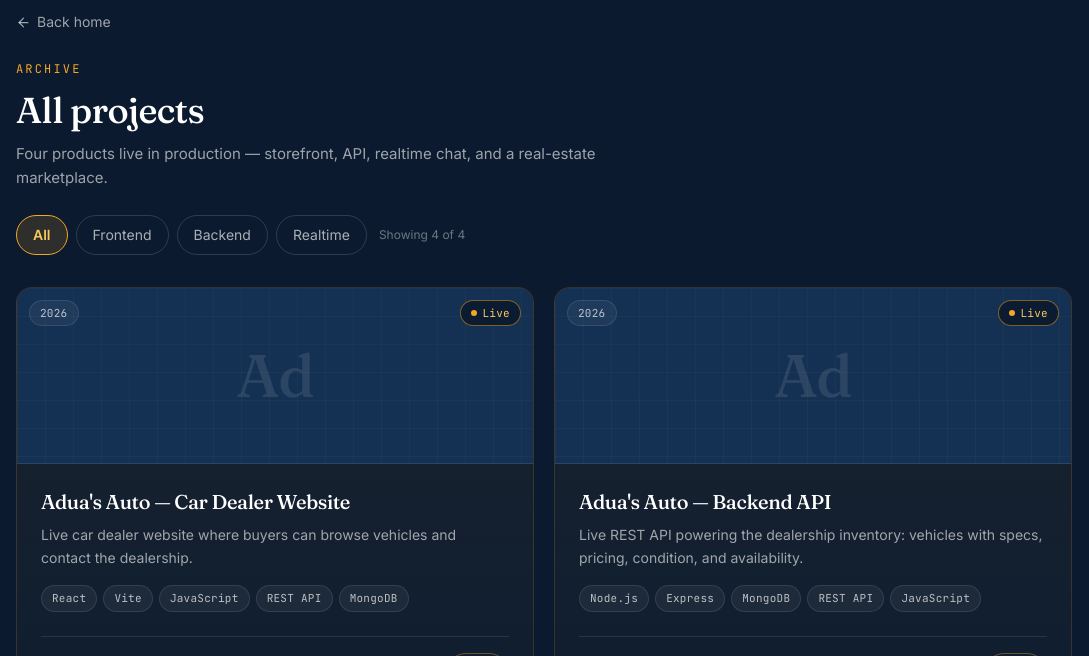
Test: ProjectsPage › filters by type and announces the count
This screenshot has width=1089, height=656.
Expected: the text "Showing 4 of 4" is shown, x1=379 y1=227 x2=465 y2=243
Step 1. Click the button "Backend" → (222, 235), box x1=176 y1=215 x2=268 y2=255
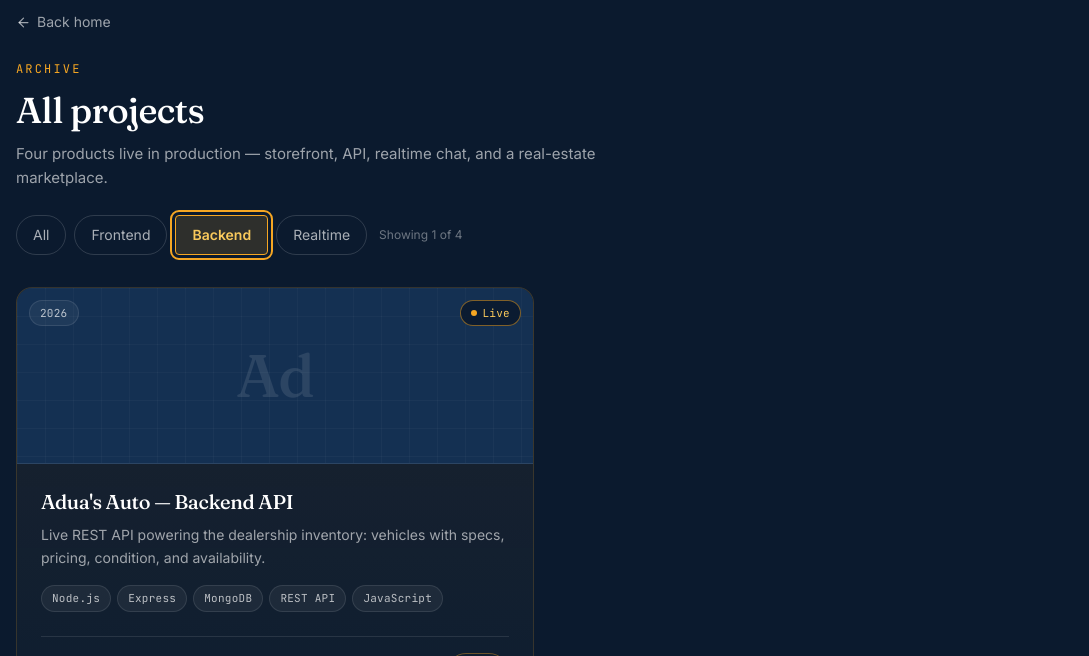
Expected: the heading "Adua's Auto — Backend API" is shown, x1=41 y1=489 x2=293 y2=514
Result: the text "Showing 1 of 4" is shown at x1=379 y1=227 x2=462 y2=243
